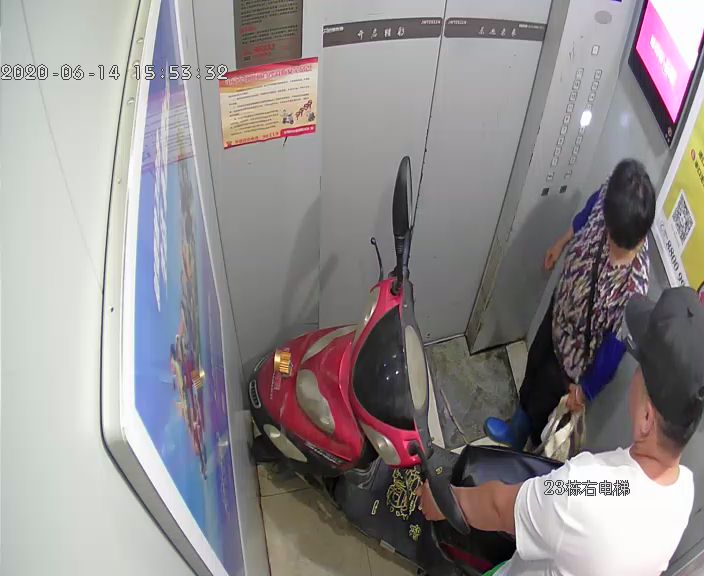Electric-bicycle: (247, 154, 560, 560)
